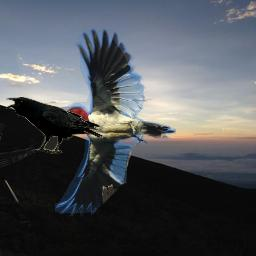Crow: (6, 97, 104, 154)
Woodpecker: (55, 28, 176, 216)
